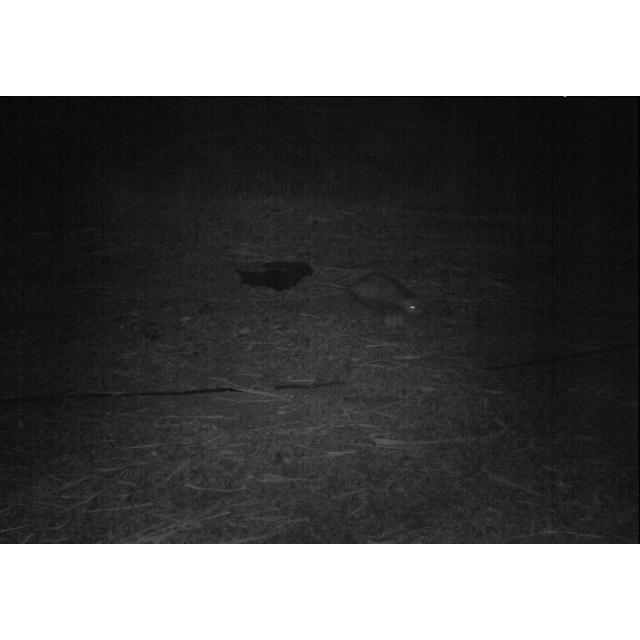animals: (340, 267, 428, 323)
